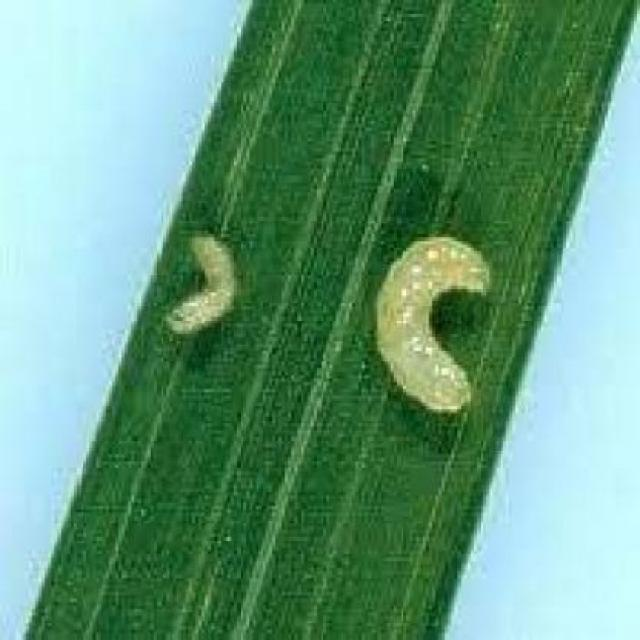whorl-maggot: (354, 225, 494, 424), (156, 222, 250, 351)
